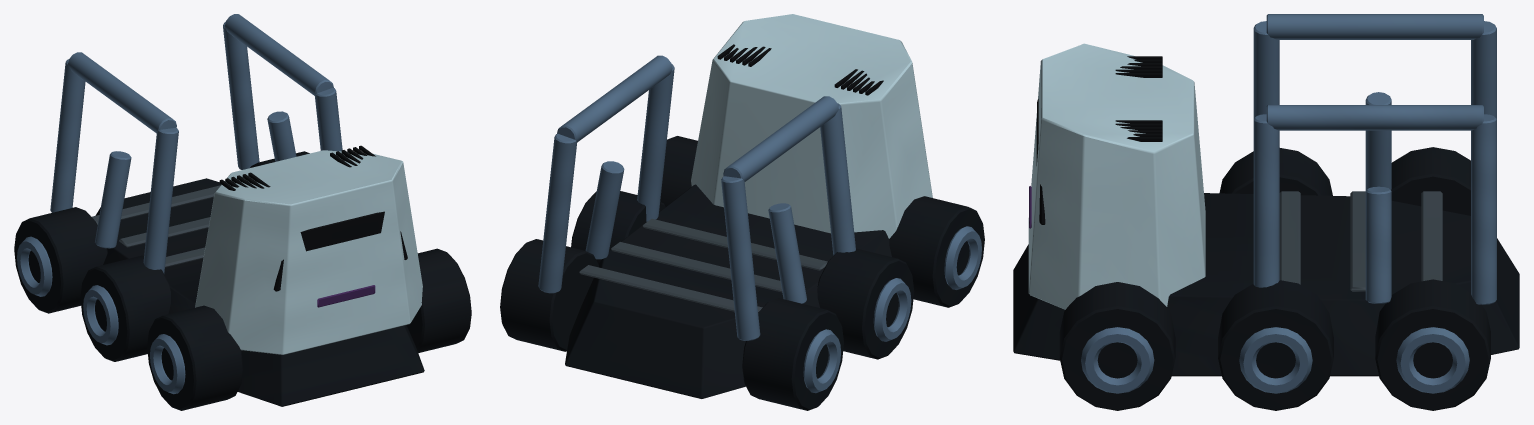
The model's file is Hauler_Wreck.fbx.
3 renders of one model, left to right at view 1: azimuth 30°, elevation 25°; view 2: azimuth 150°, elevation 25°; view 3: azimuth 270°, elevation 25°, orthographic. The views are drawn at different scales.
Visible parts, largest first — view 1: Hauler_Wreck; view 2: Hauler_Wreck; view 3: Hauler_Wreck.
Boxes of the visible parts, box(x1,y1,x2,y2) form: Hauler_Wreck: box(14, 14, 471, 410); Hauler_Wreck: box(500, 14, 984, 410); Hauler_Wreck: box(1013, 14, 1519, 410).
Bounding box in the file's own units: 3.38 × 2.53 × 4.29.
